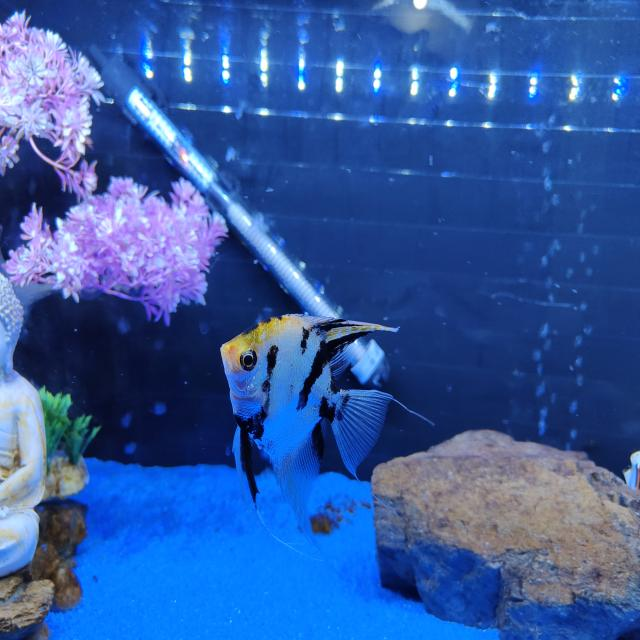Fish: (220, 315, 396, 545), (372, 0, 471, 34), (623, 452, 639, 490)
